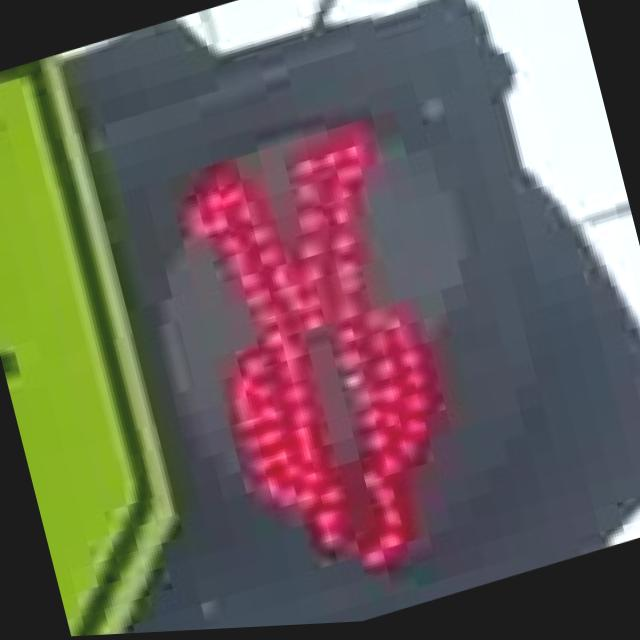red_light: (140, 78, 533, 634)
